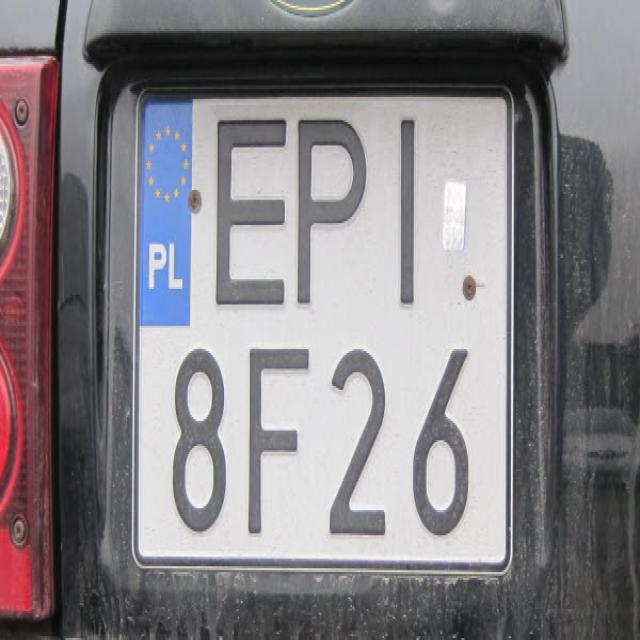pl_license_plate: (139, 91, 506, 561)
